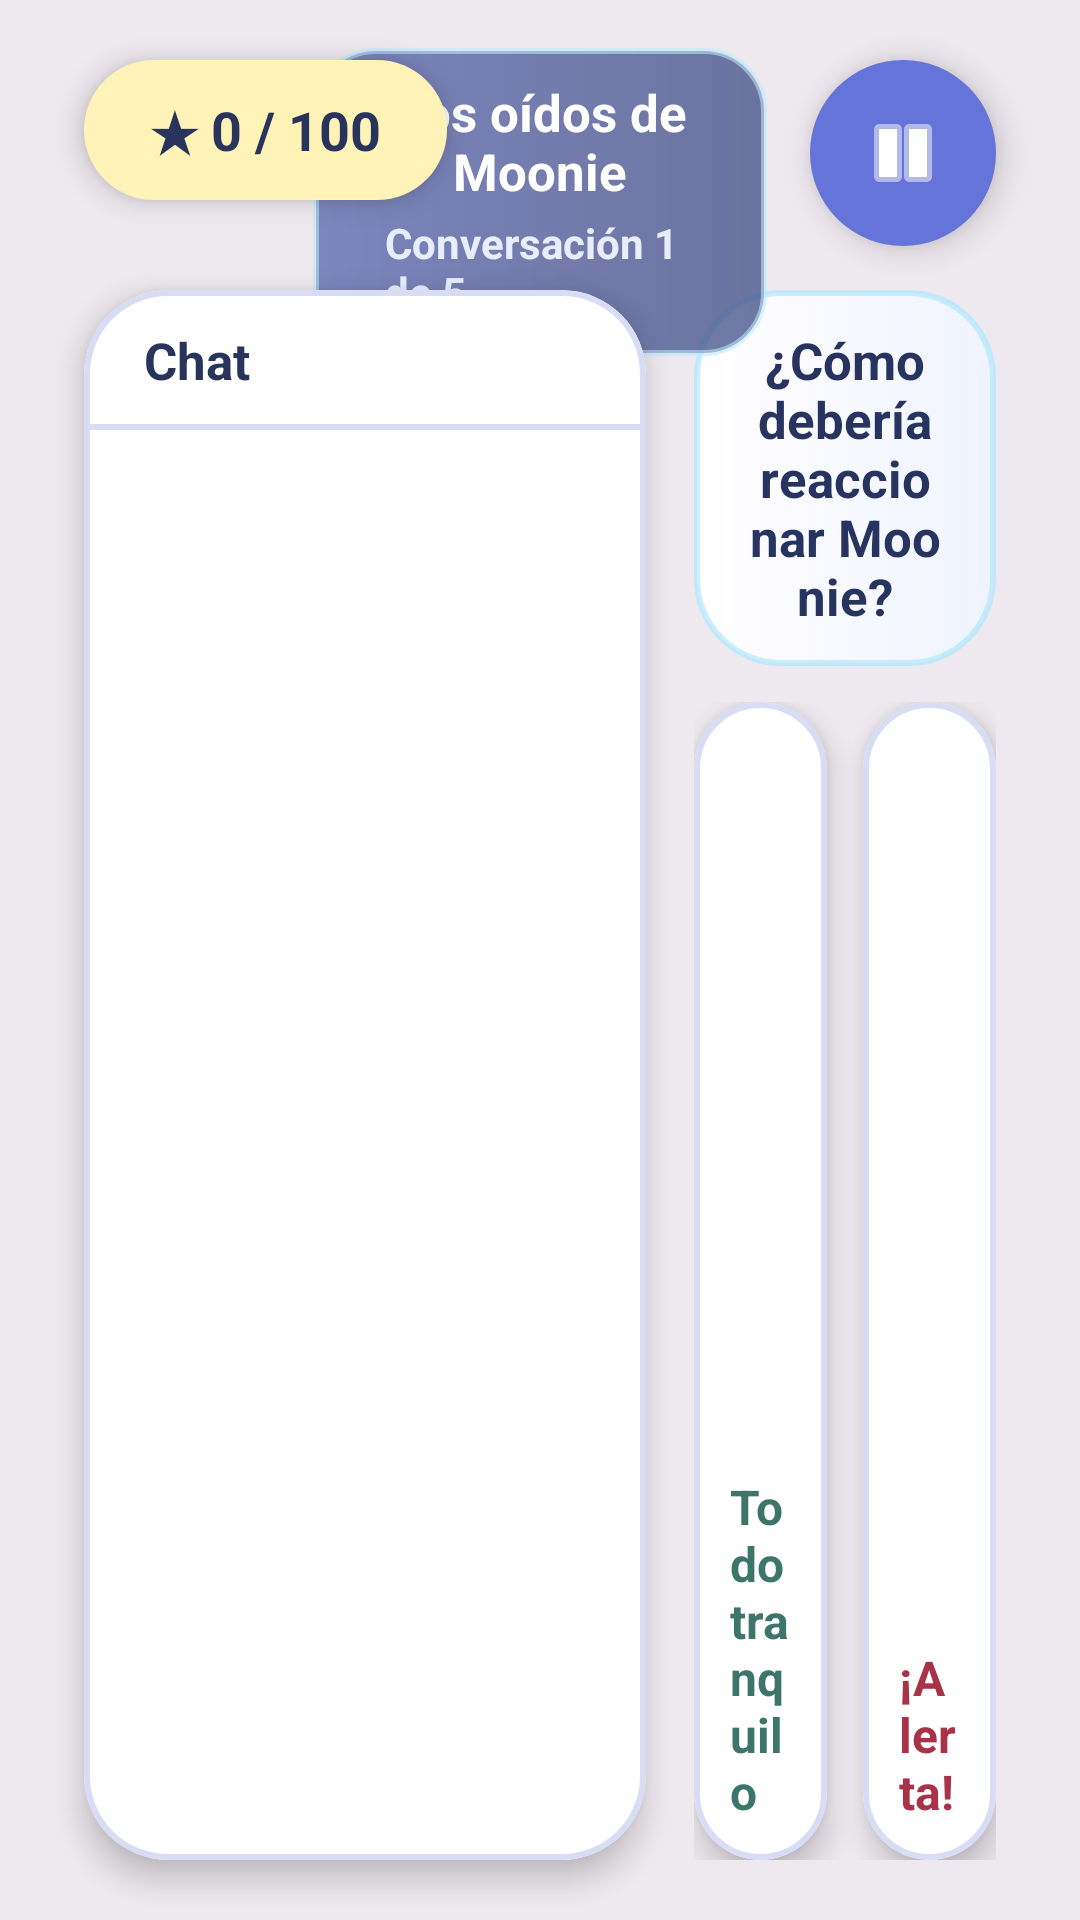

Screen size 1080 x 1920. Icon name, then its box in pixels as (x1, y1, x2, y2):
Pausar juego: (810, 60, 996, 246)
